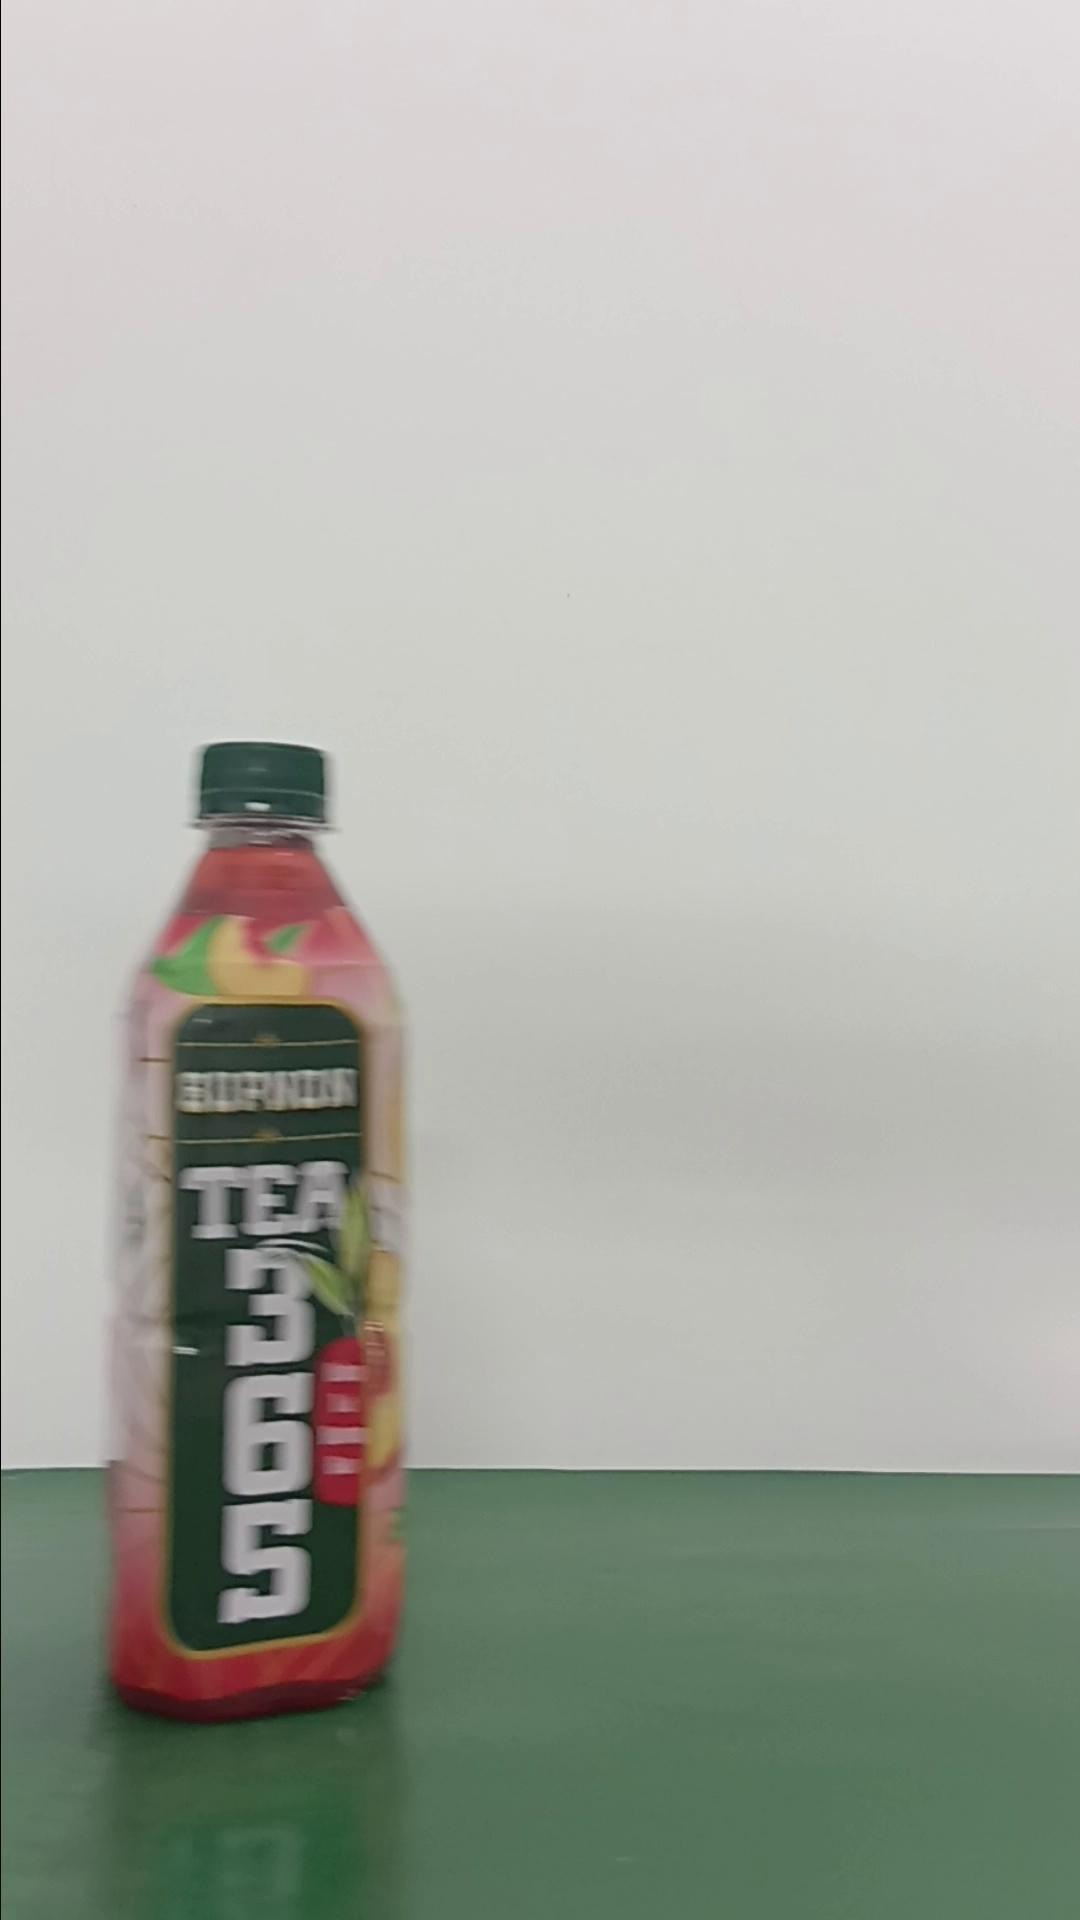khong loi: (102, 737, 411, 1722)
